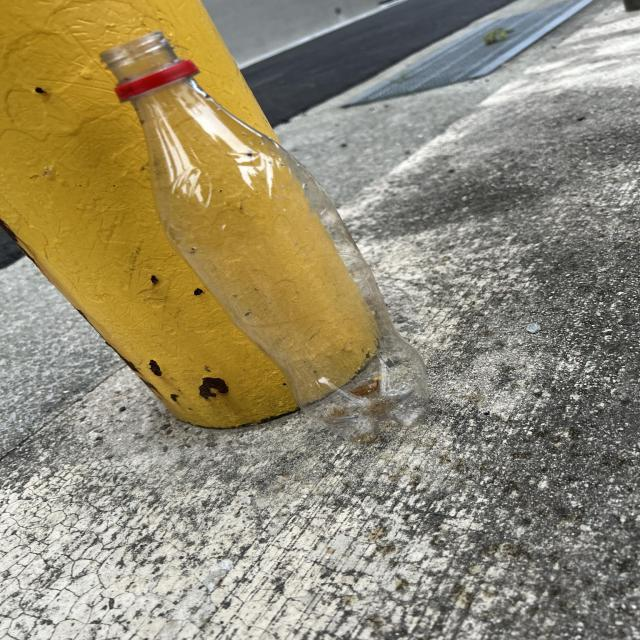empty: (101, 32, 427, 441)
